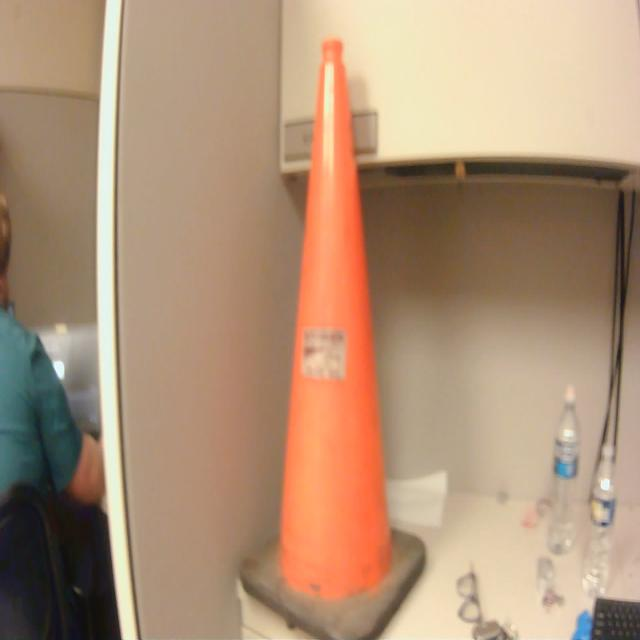traffic cone: (235, 21, 437, 640)
